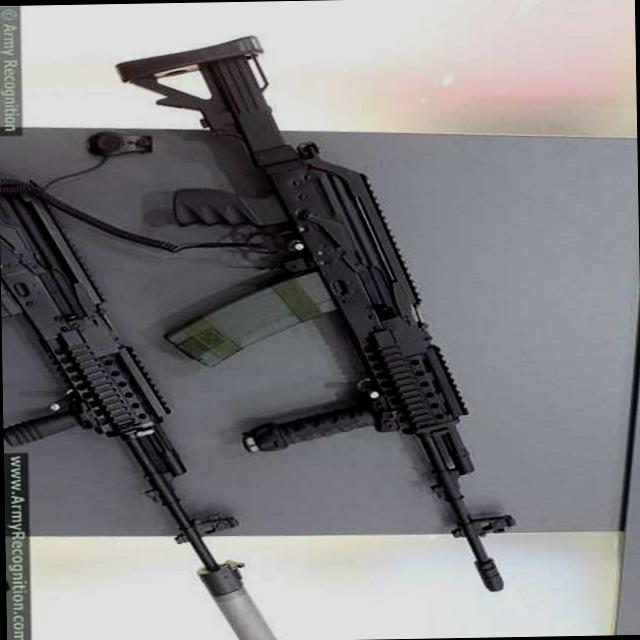long weapon: (124, 13, 556, 607), (4, 185, 322, 638)
